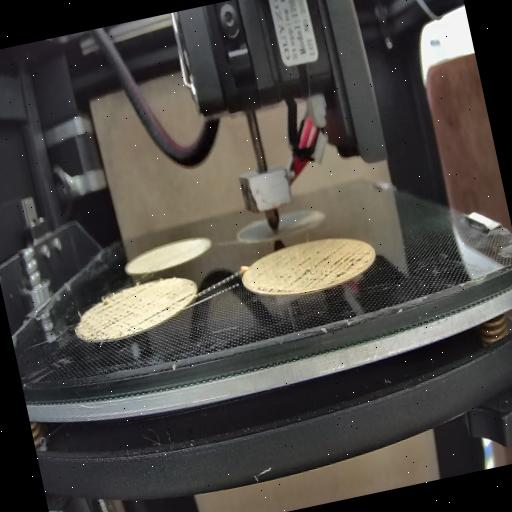under_extrusion: (250, 236, 376, 302), (75, 290, 139, 341), (138, 292, 200, 322)
